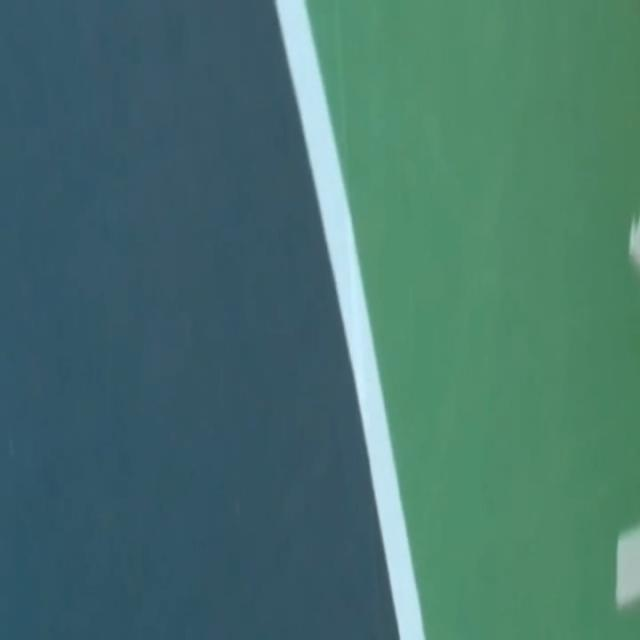right: (276, 0, 424, 639)
